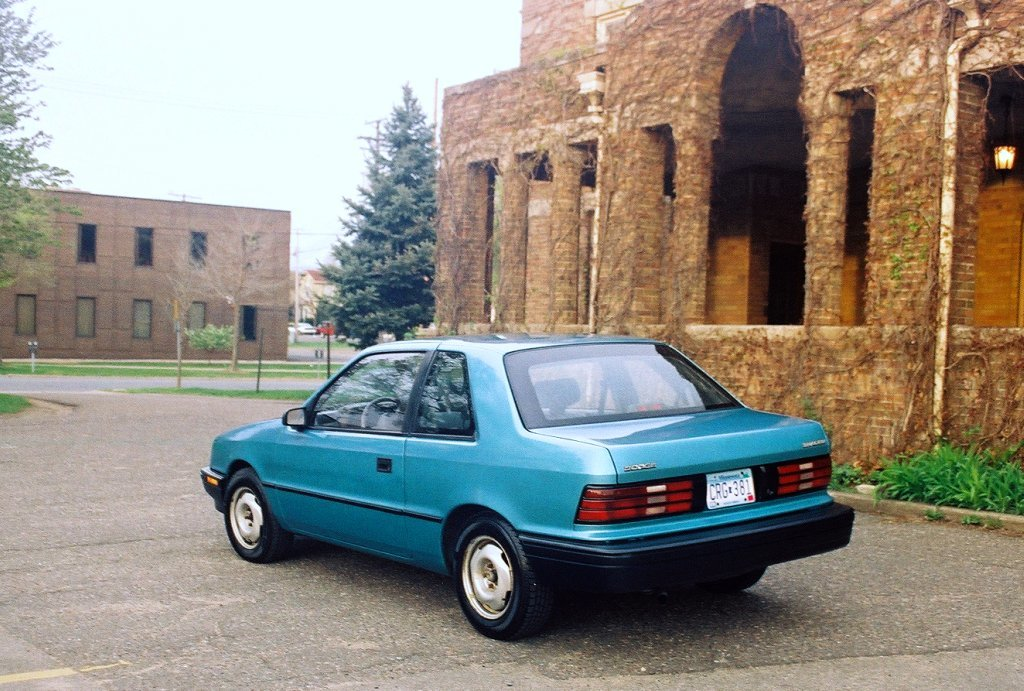cars: (203, 330, 833, 644)
